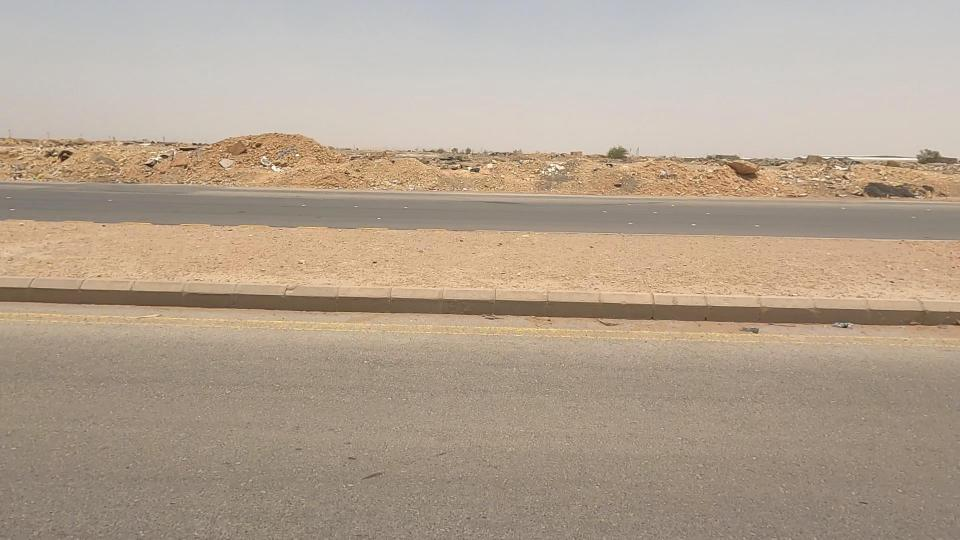CLUTTER_SIDEWALK: (0, 175, 498, 341), (332, 186, 732, 337), (609, 200, 908, 327), (197, 146, 249, 181)
GARBAGE: (408, 131, 524, 206), (828, 152, 920, 218), (244, 134, 311, 193), (512, 154, 595, 195), (126, 139, 182, 178), (42, 128, 84, 178)
